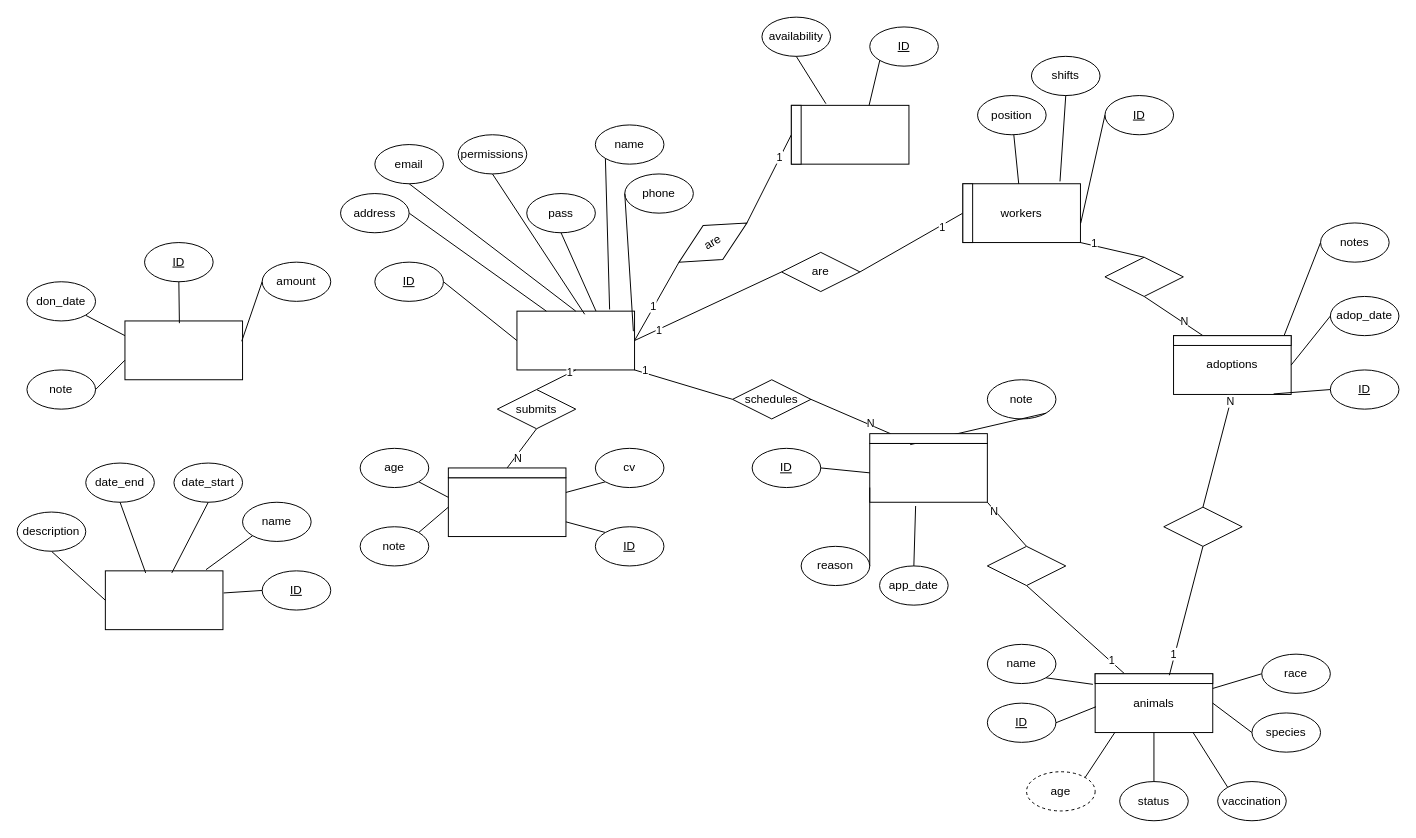
Some shapes in this 1416 by 838 pixel diagram are drawn without their labels. The shapes that lost their labels are listed below. From the top down, each one's box as (x1, y1, x2, y2) in pixels, then its label:
(790, 104, 909, 164): volunteers
(1104, 256, 1183, 296): handles
(124, 320, 243, 380): donations
(516, 310, 635, 370): users
(869, 442, 987, 502): appoitments
(447, 477, 566, 537): applications
(1163, 506, 1242, 546): adopts
(986, 545, 1066, 586): for
(104, 570, 223, 630): events
